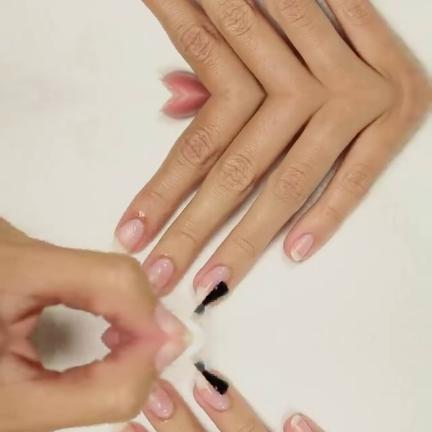Nail: (196, 264, 232, 302), (196, 372, 232, 410), (154, 305, 195, 336), (154, 338, 195, 369), (112, 218, 144, 253), (145, 257, 175, 292), (145, 382, 175, 417), (290, 233, 314, 260), (290, 414, 314, 432), (112, 421, 139, 432)
